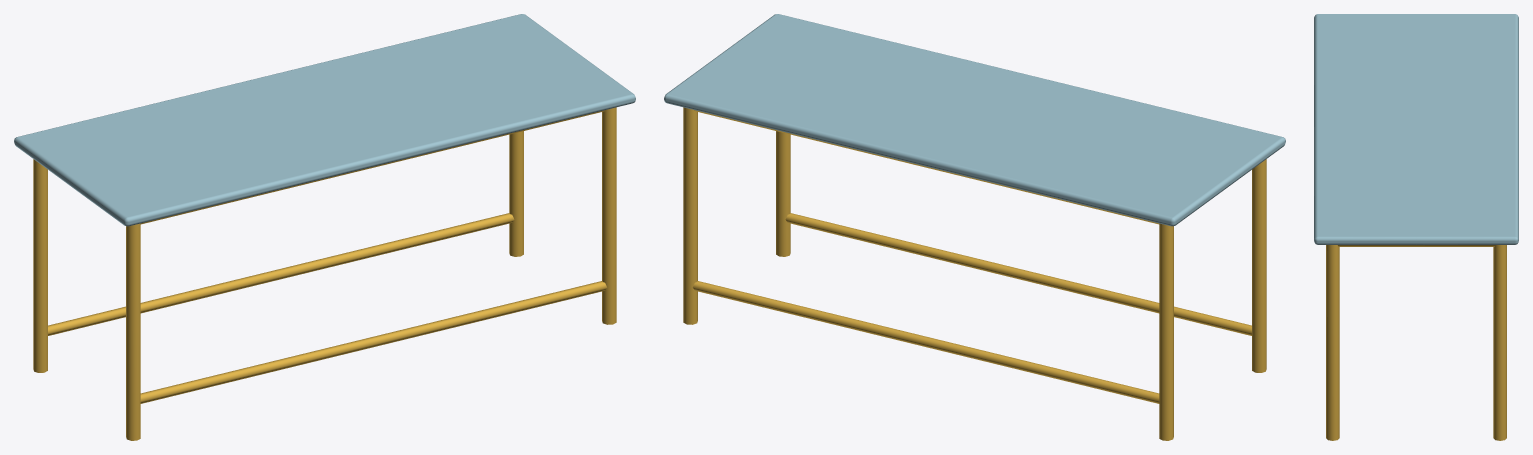
Rendered from furn_acc_table.glb.
The picture shows the model from 3 angles, left to right: view 1: azimuth 30°, elevation 25°; view 2: azimuth 150°, elevation 25°; view 3: azimuth 270°, elevation 25°; orthographic projection. The views are drawn at different scales.
Parts seen in each view (by area): view 1: furn_acc_table_gloss, furn_acc_table_main; view 2: furn_acc_table_gloss, furn_acc_table_main; view 3: furn_acc_table_gloss, furn_acc_table_main.
Part boxes in pixels (x1,y1,x2,y2): furn_acc_table_gloss: [14, 14, 635, 226]; furn_acc_table_main: [33, 107, 616, 440]; furn_acc_table_gloss: [664, 14, 1285, 226]; furn_acc_table_main: [683, 107, 1266, 440]; furn_acc_table_gloss: [1314, 14, 1518, 244]; furn_acc_table_main: [1326, 245, 1506, 440].
Bounding box in the file's own units: 1.72 × 0.74 × 0.66.
